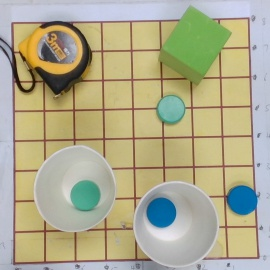blue: (228, 184, 258, 215)
bottle: (158, 95, 185, 122)
cup_blue: (132, 175, 219, 266)
cup_green: (34, 141, 120, 232)
